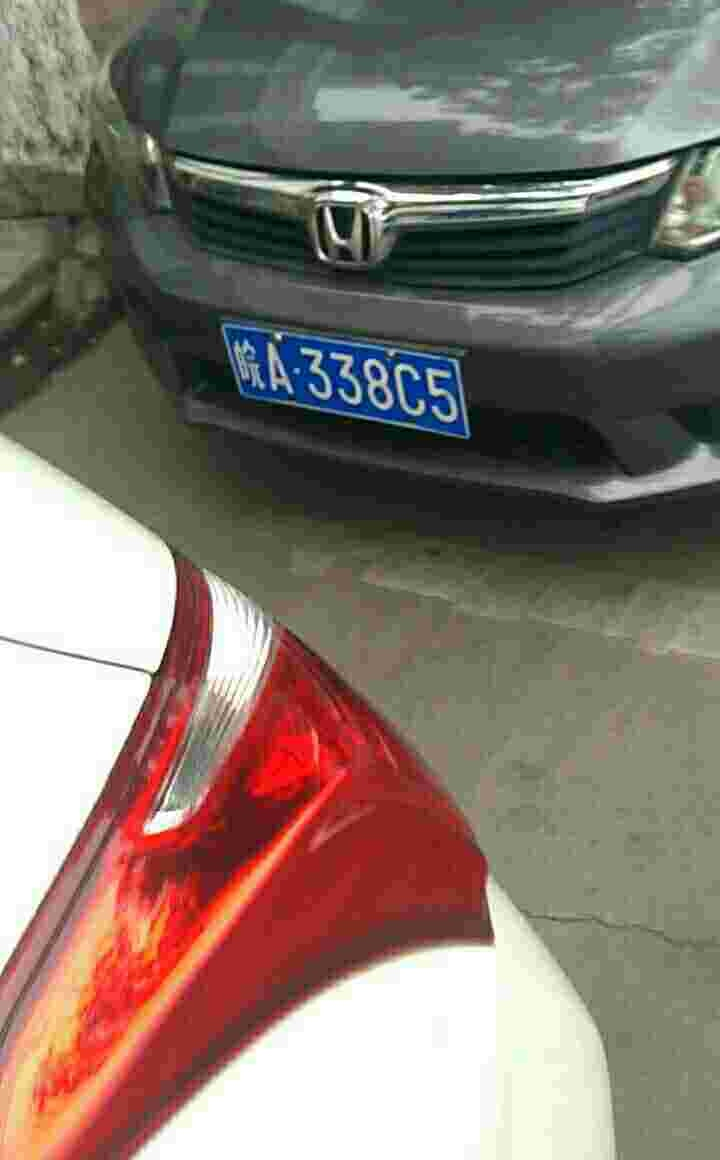license_plate: (230, 320, 460, 429)
